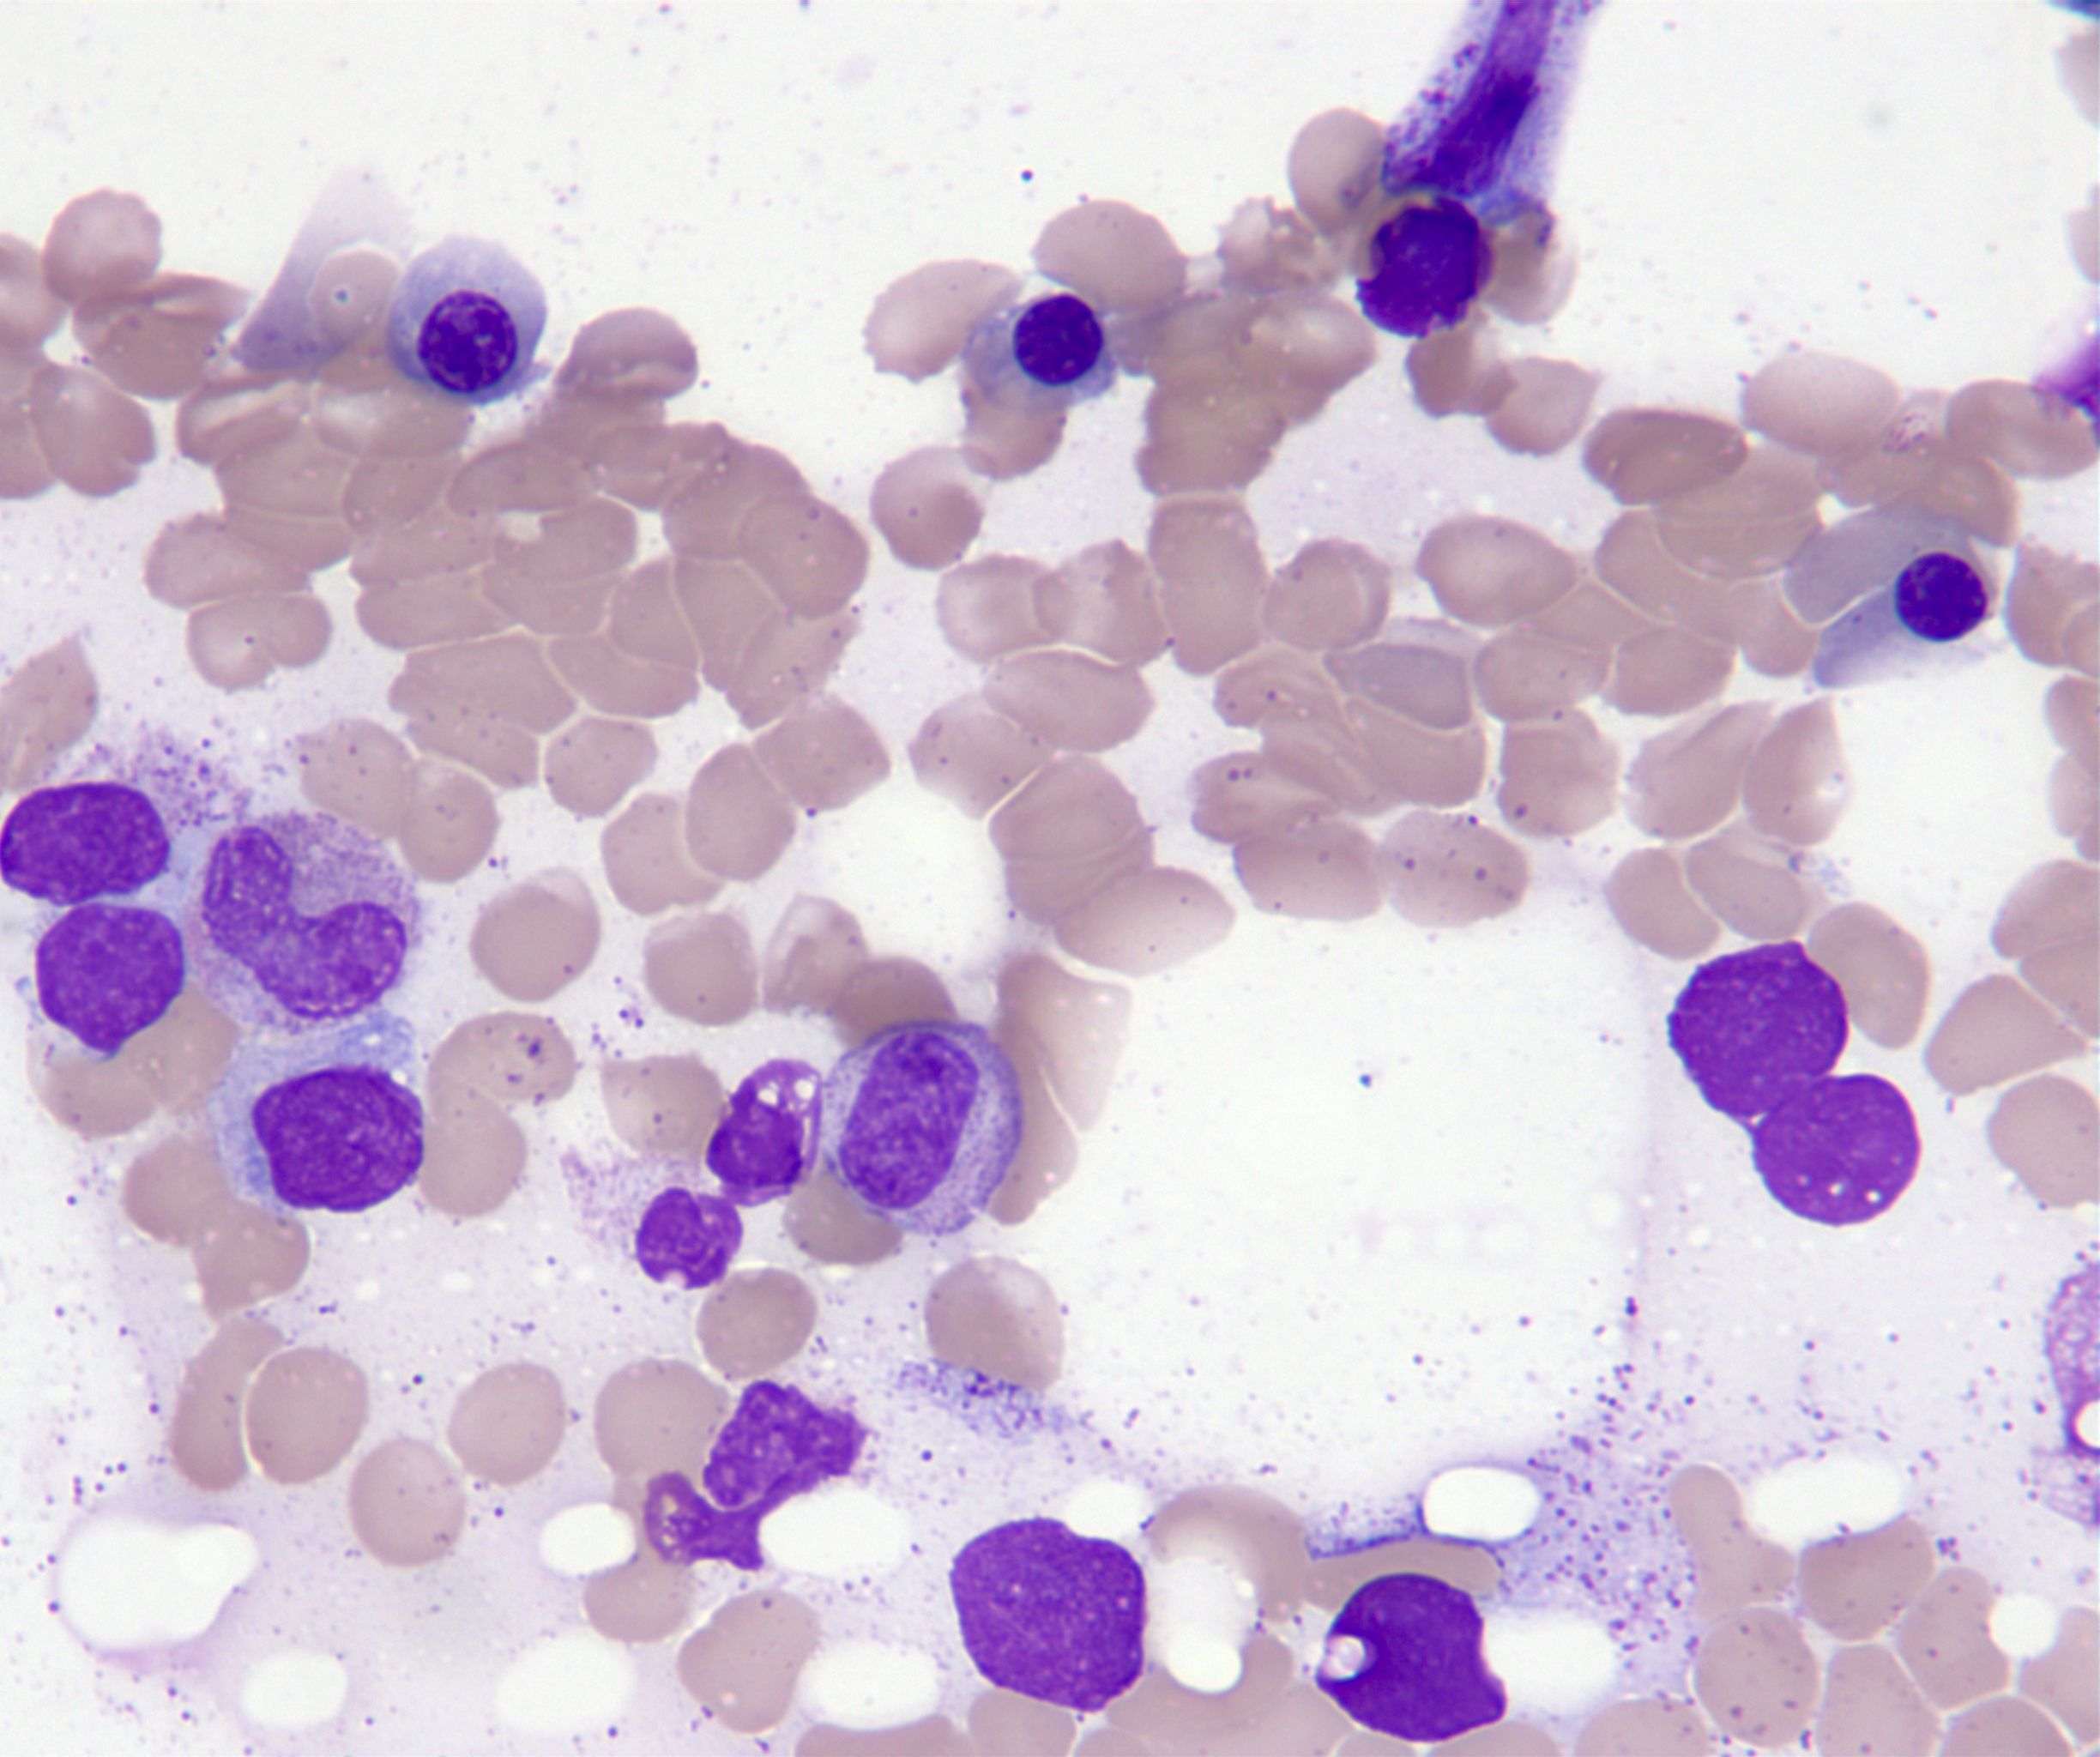24: (1781, 506, 1999, 687), (385, 234, 549, 408), (966, 269, 1118, 414)
3: (822, 1022, 1022, 1237)
x: (178, 811, 424, 1038), (1380, 0, 1598, 222), (209, 1010, 424, 1216), (645, 1380, 869, 1570), (951, 1516, 1146, 1713), (1313, 1574, 1509, 1745), (1667, 940, 1849, 1117), (1755, 1075, 1922, 1228), (565, 1153, 741, 1291), (35, 902, 185, 1057), (2, 783, 171, 906), (1357, 199, 1497, 337), (705, 1057, 827, 1209)
